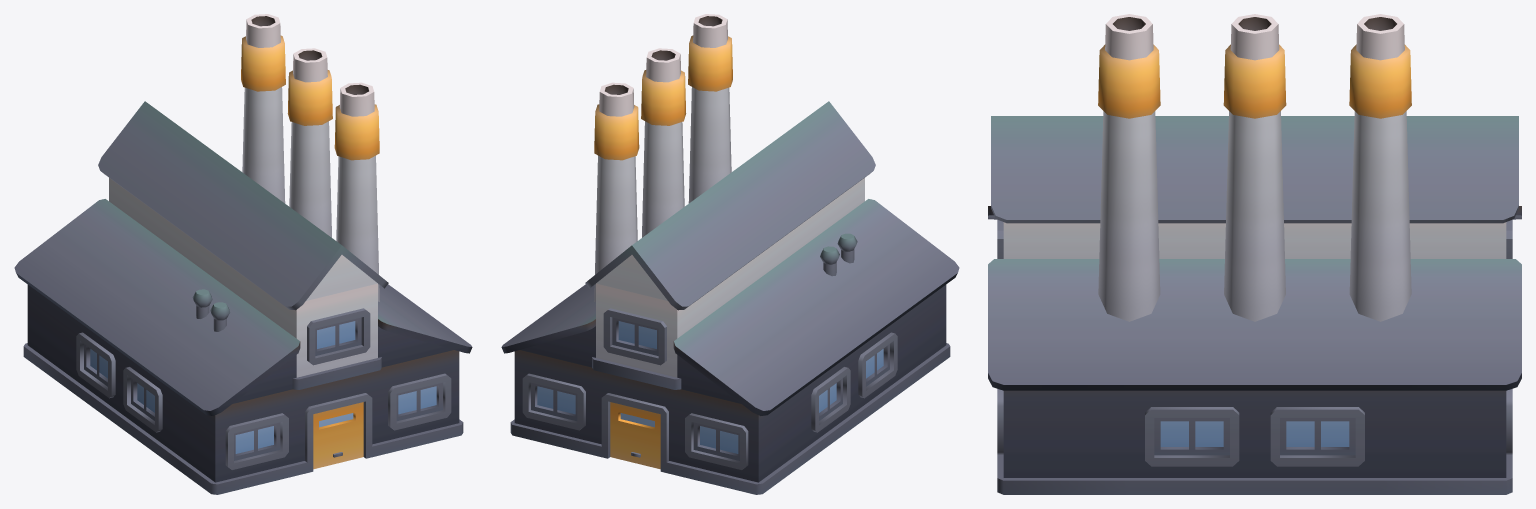
Rendered from ind_building_m.glb.
The picture shows the model from 3 angles, left to right: view 1: azimuth 30°, elevation 25°; view 2: azimuth 150°, elevation 25°; view 3: azimuth 270°, elevation 25°; orthographic projection. The views are drawn at different scales.
Visible parts, largest first — view 1: building-m; view 2: building-m; view 3: building-m.
Part boxes in pixels (box(x1,y1,x2,y2)): building-m: box(14, 14, 472, 494); building-m: box(501, 14, 959, 494); building-m: box(988, 14, 1521, 494).
Bounding box in the file's own units: 1.32 × 1.52 × 1.7.
Materials: 1 (1 with a texture image).
